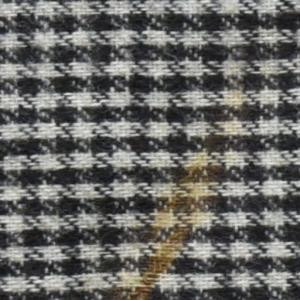Oil Stain: (102, 64, 285, 300)
